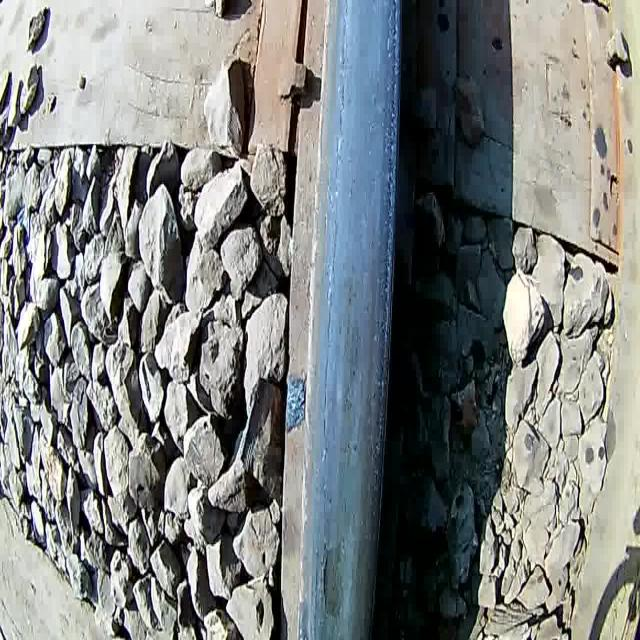Squats: (272, 0, 426, 640)
